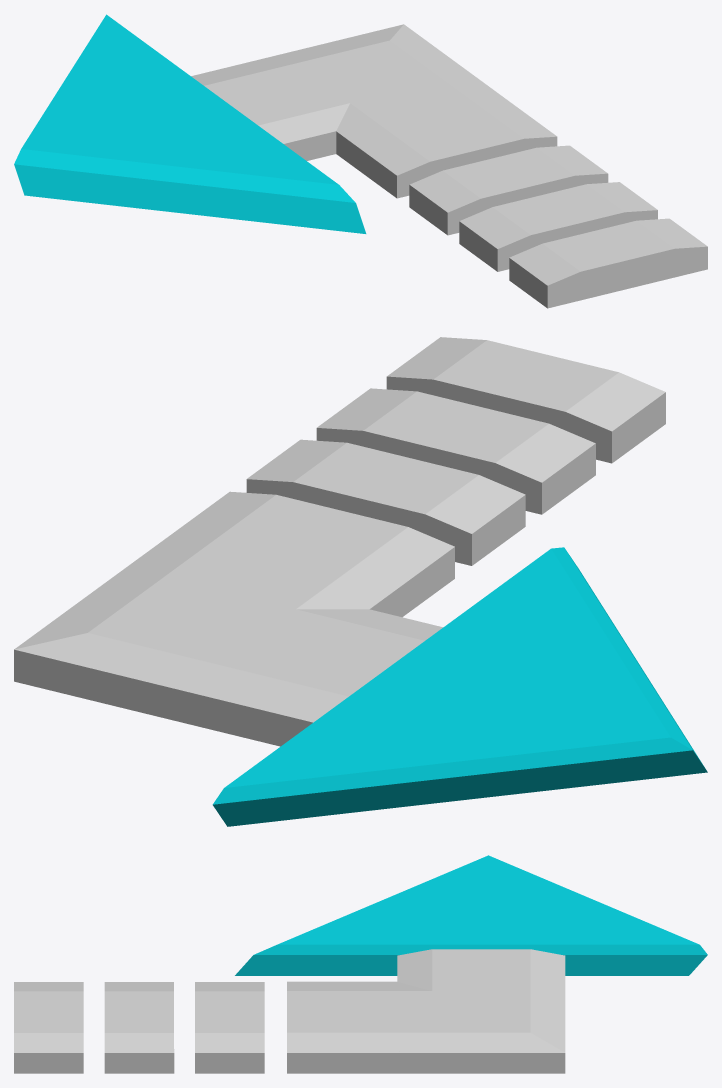
File: LeftArrow.fbx
3 views of the same model, one above another, from view 1: azimuth 30°, elevation 25°; view 2: azimuth 150°, elevation 25°; view 3: azimuth 270°, elevation 25° (orthographic). The views are drawn at different scales.
Parts seen in each view (by area): view 1: Plane.008_Material.001_0.001, Cube.005, Cube.006, Cube.007; view 2: Plane.008_Material.001_0.001, Cube.005, Cube.006, Cube.007; view 3: Plane.008_Material.001_0.001, Cube.005, Cube.006, Cube.007.
Boxes of the visible parts, <box> form: Plane.008_Material.001_0.001: <box>14,14,366,233</box>; Cube.005: <box>409,145,707,308</box>; Cube.006: <box>191,24,495,160</box>; Cube.007: <box>336,80,557,198</box>; Plane.008_Material.001_0.001: <box>212,547,707,826</box>; Cube.005: <box>246,337,665,565</box>; Cube.006: <box>14,554,442,746</box>; Cube.007: <box>144,491,454,617</box>; Plane.008_Material.001_0.001: <box>235,855,707,975</box>; Cube.005: <box>14,982,264,1073</box>; Cube.006: <box>397,949,565,1073</box>; Cube.007: <box>287,981,432,1073</box>.
Size of the model in its own units: 182 by 13.13 by 276.
